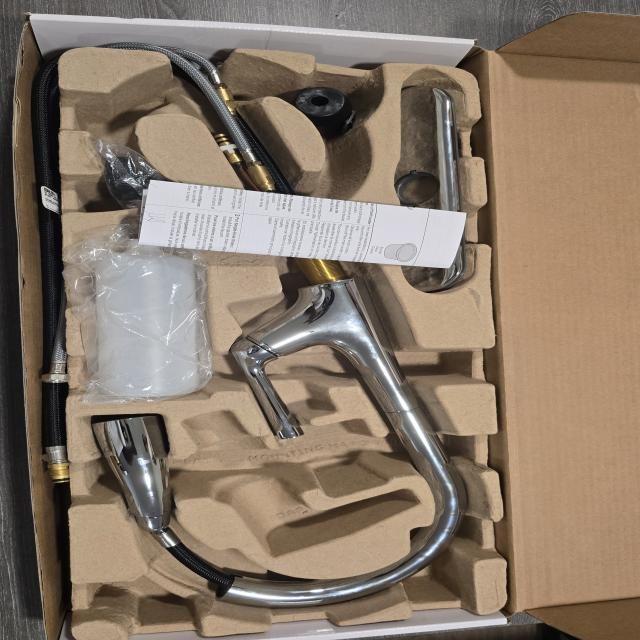1o: (92, 45, 469, 608)
2m: (181, 410, 420, 556)
3o: (92, 218, 201, 403)
4o: (392, 84, 466, 291)
5: (292, 87, 357, 137)
6m: (73, 70, 179, 137)
7o: (93, 138, 211, 224)
8: (139, 179, 466, 270)
